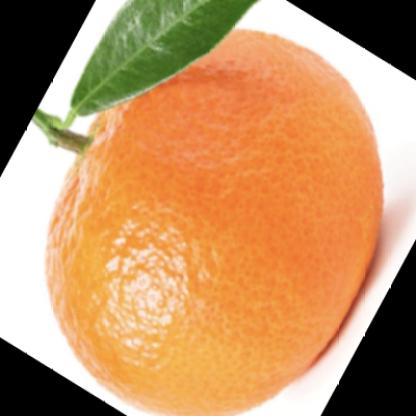fresh: (46, 30, 383, 416)
